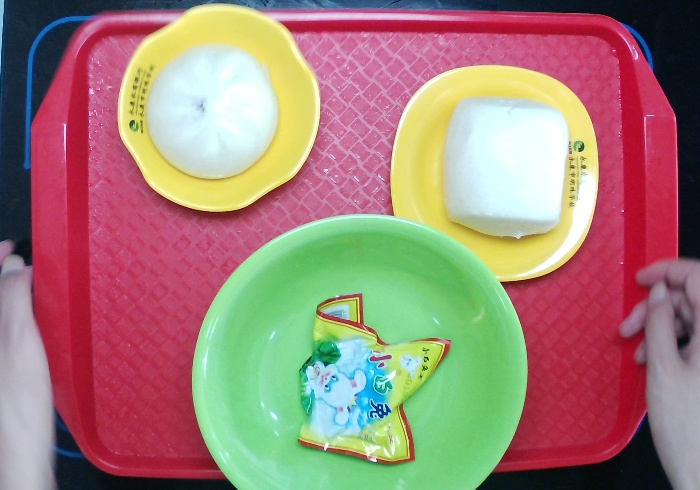YKMZ-Huang_Se_Ao_Bian_Wan: (115, 1, 330, 221)
YKMZ-Huang_Se_Fang_Die: (384, 59, 607, 288)
YKMZ-Lv_Se_Tang_Wan: (184, 209, 530, 490)
